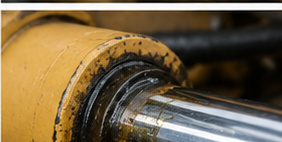hydraulic_oil_leak: (81, 53, 161, 141), (107, 99, 126, 131), (87, 75, 108, 100), (64, 98, 77, 111), (138, 84, 145, 89), (131, 90, 137, 94), (76, 122, 78, 130), (79, 86, 83, 88)
